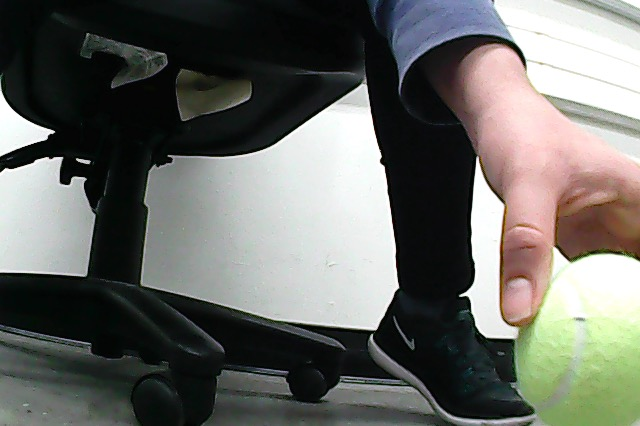ball: (515, 253, 640, 426)
